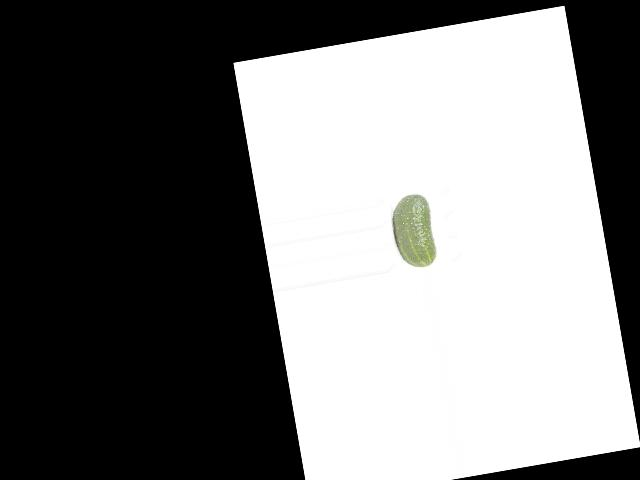cucumber: (387, 191, 438, 271)
